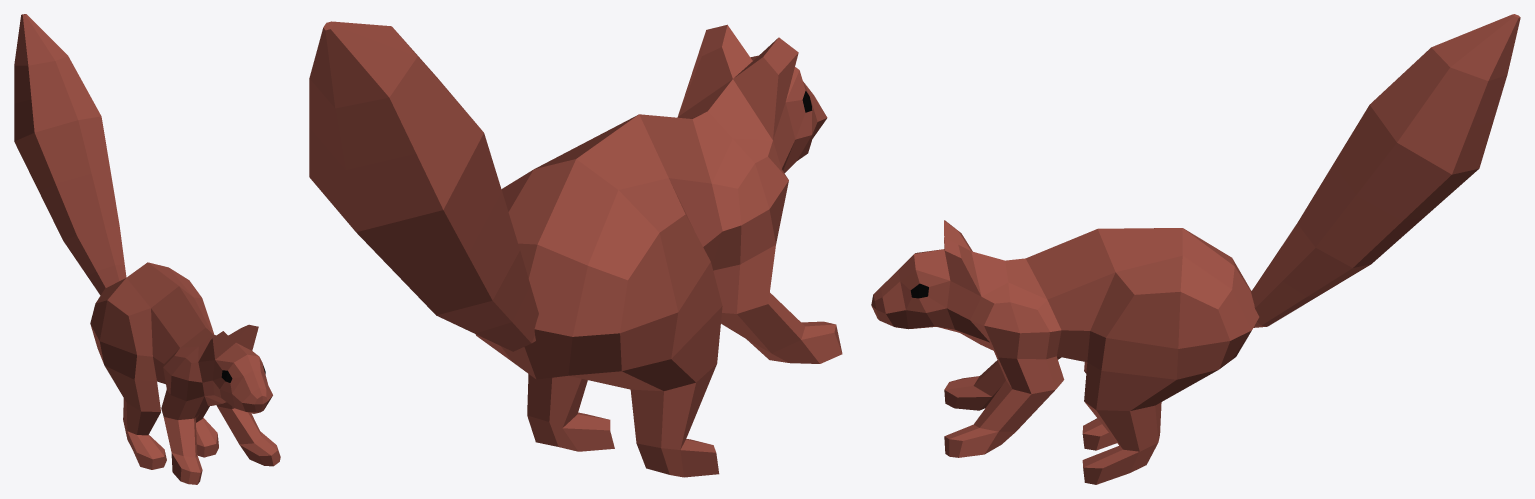
File: Squirrel.fbx
3 renders of one model, left to right at view 1: azimuth 30°, elevation 25°; view 2: azimuth 150°, elevation 25°; view 3: azimuth 270°, elevation 25°, orthographic. The views are drawn at different scales.
Visible parts, largest first — view 1: Mesh; view 2: Mesh; view 3: Mesh.
Part boxes in pixels (x1=…): Mesh: x1=14, y1=14, x2=280, y2=484; Mesh: x1=309, y1=21, x2=842, y2=477; Mesh: x1=871, y1=14, x2=1520, y2=484.
Bounding box in the file's own units: 641 × 2029 × 2669.
